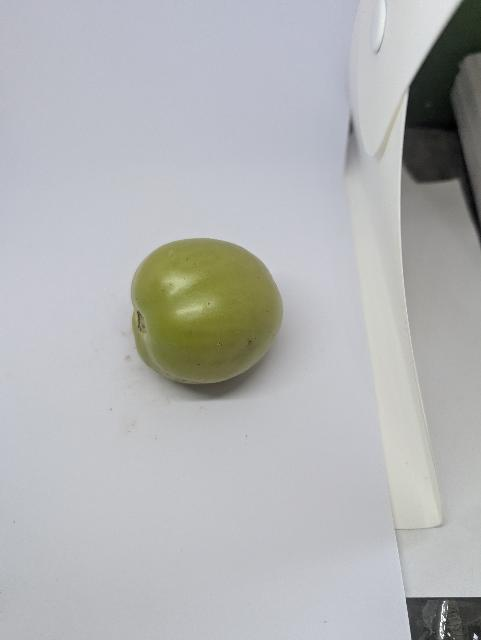green: (114, 217, 304, 409)
